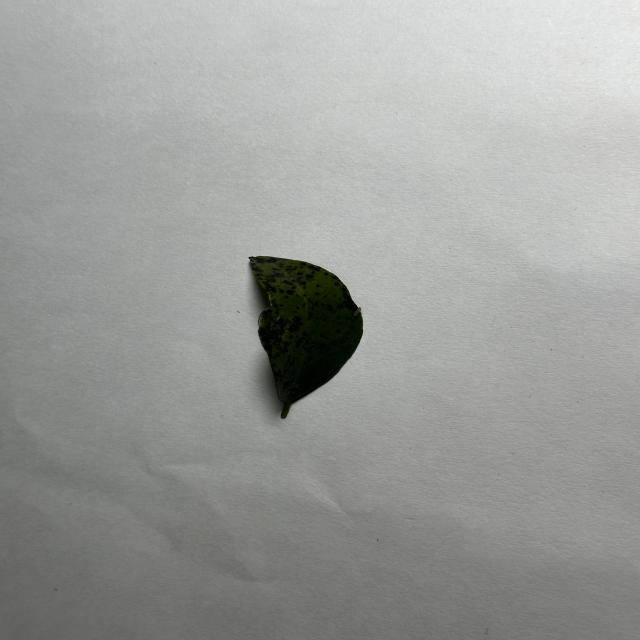sooty_mold: (250, 256, 362, 418)
